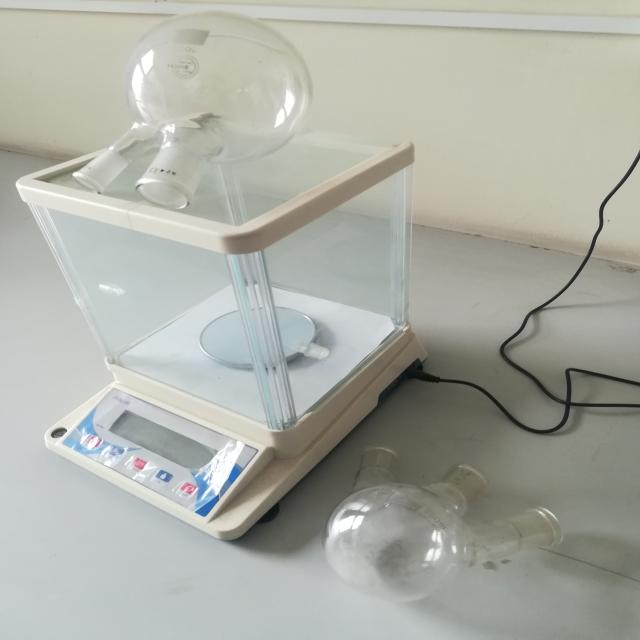Round_Bottom_Flask_Borosilicate_Glass_2_Neck: (35, 0, 361, 239)
Round_Bottom_Flask_Borosilicate_Glass_3_Neck: (293, 413, 576, 622)
